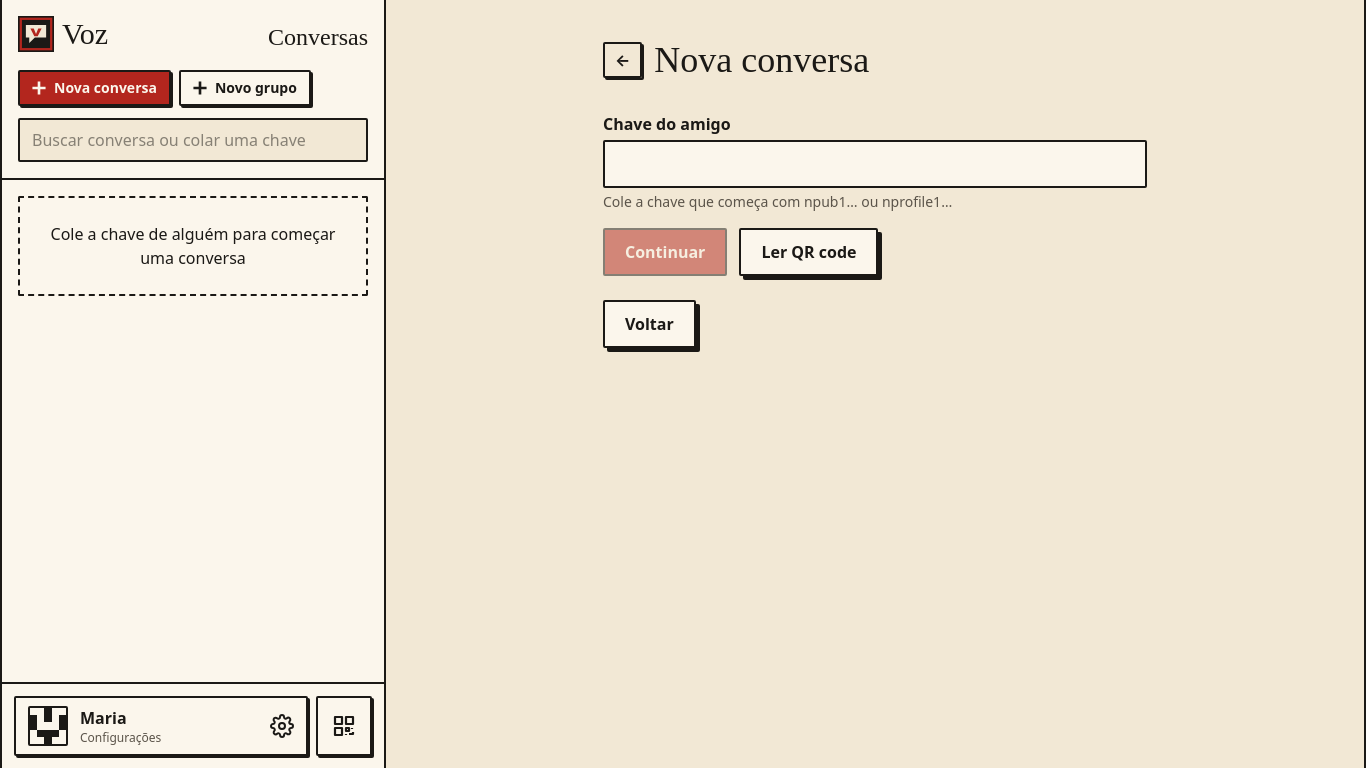
Scenario: nova conversa › RN-WEB-CONVERSAS-002: chave invalida mostra a mensagem e nao cria conversa
The width and height of the screenshot is (1366, 768).
Click the field labelled "Chave do amigo" at (875, 164), box top-left (603, 140), bottom-right (1147, 188)
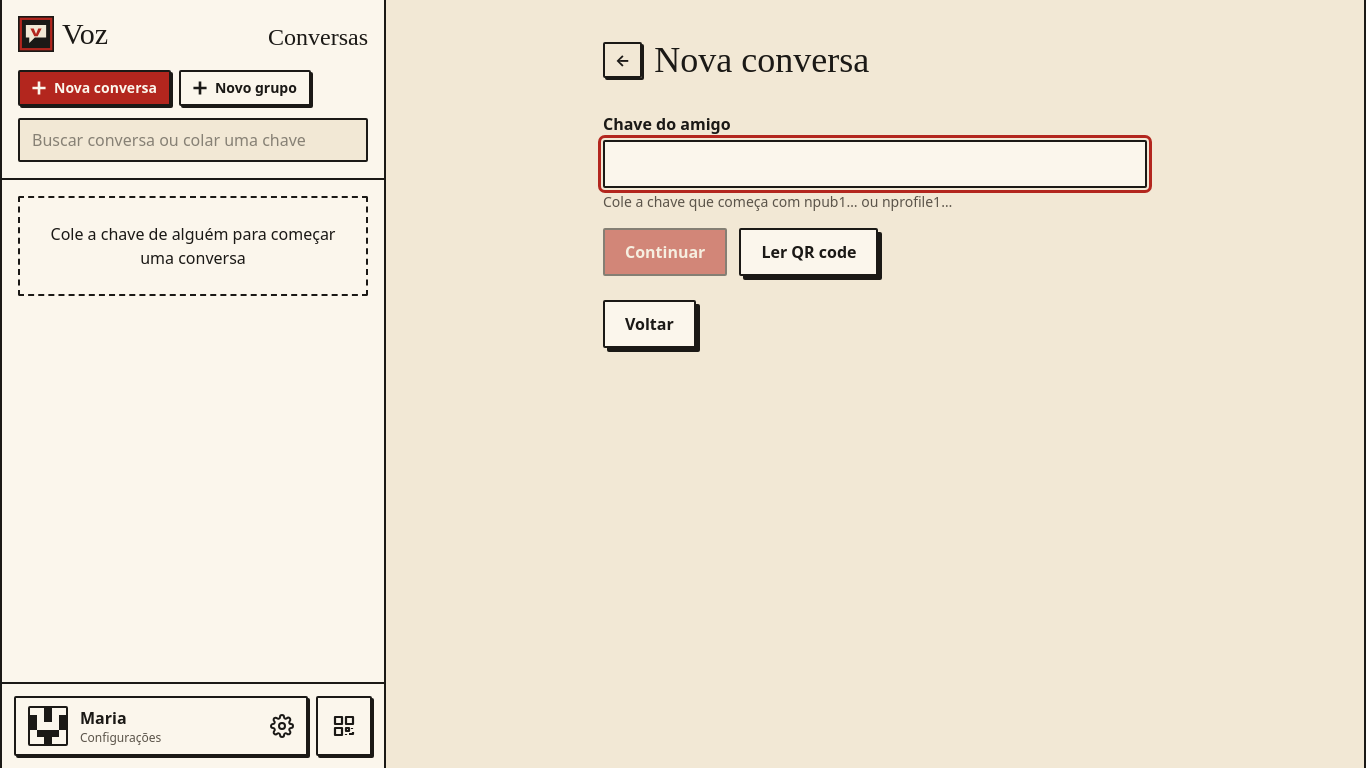
Type keys "npub1xyz"
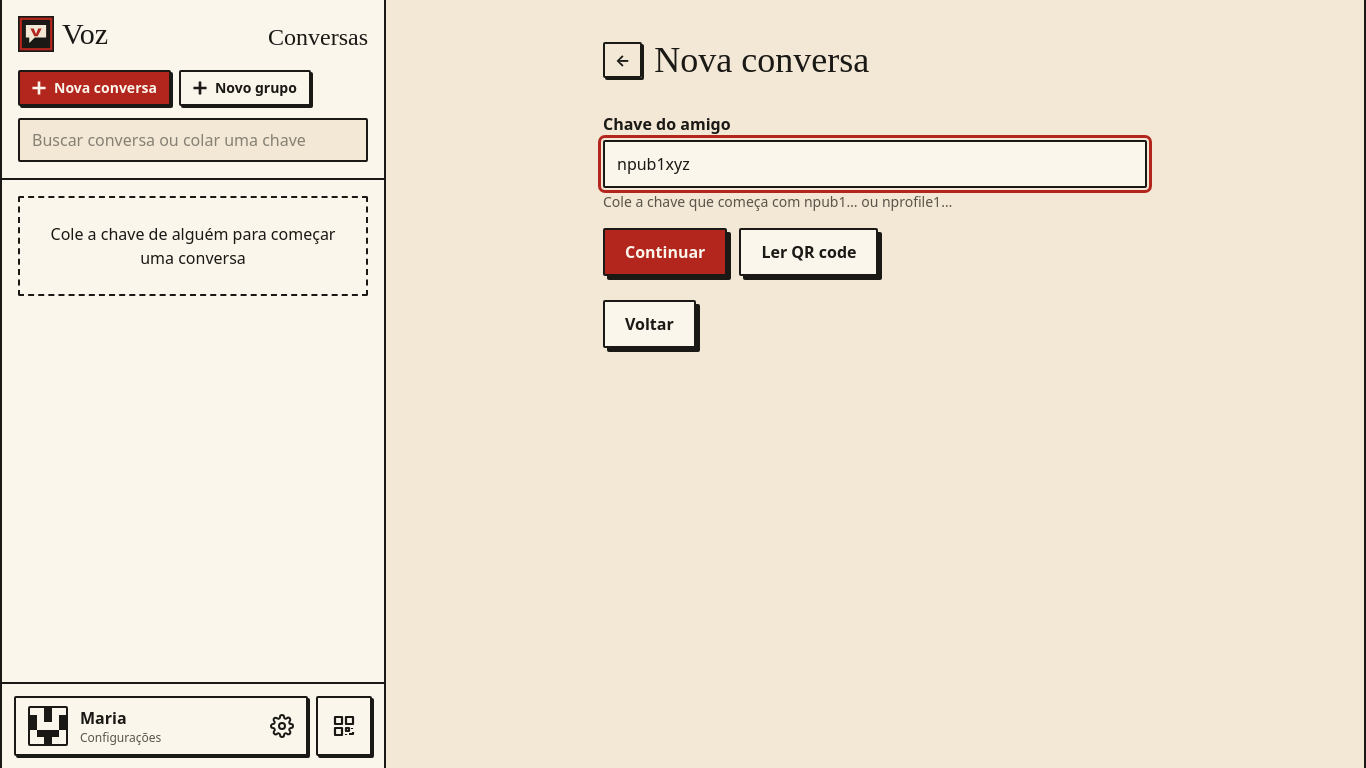
Click the button "Continuar" at (665, 252), box top-left (603, 228), bottom-right (727, 276)
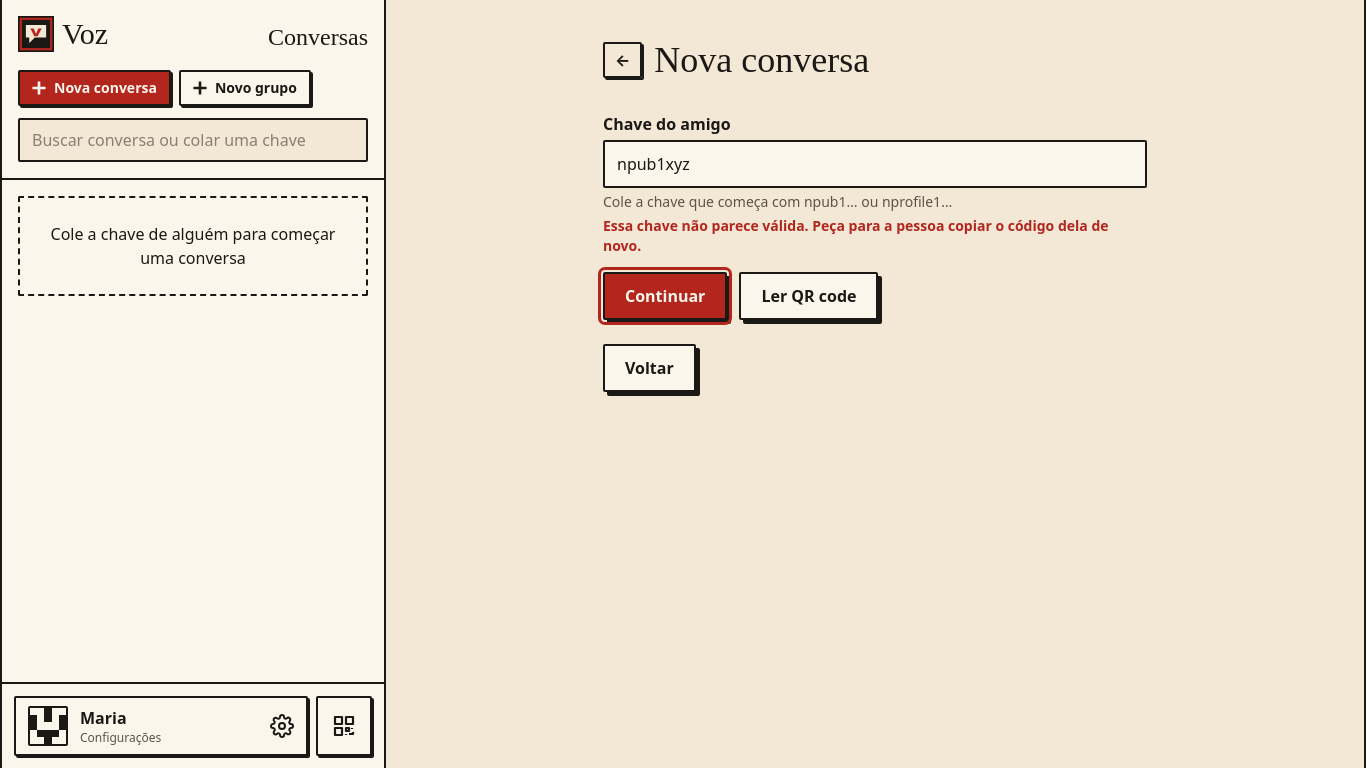
Expected: the text "Essa chave não parece válida" is shown, top-left (603, 216), bottom-right (1108, 255)
